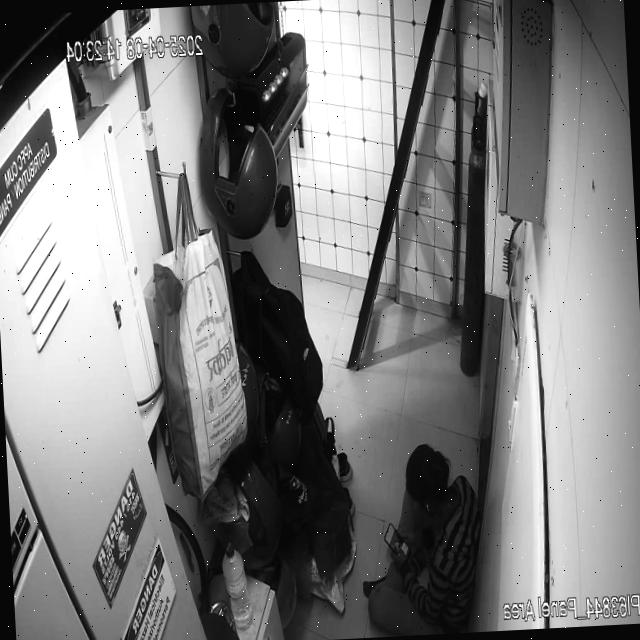helmet: (201, 88, 278, 238)
no_helmet: (406, 444, 449, 517)
